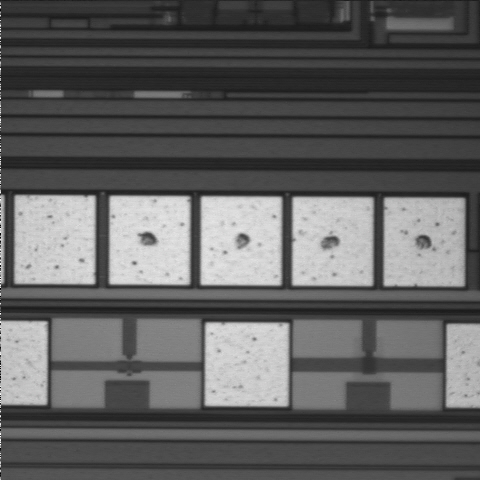pad: (110, 196, 190, 285), (15, 196, 95, 284), (201, 197, 281, 285), (293, 198, 373, 285), (384, 198, 463, 286), (205, 323, 288, 406)
